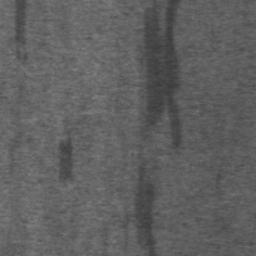Iron scale compression: (145, 0, 181, 149), (138, 167, 155, 256), (59, 129, 73, 183), (15, 0, 27, 62)
